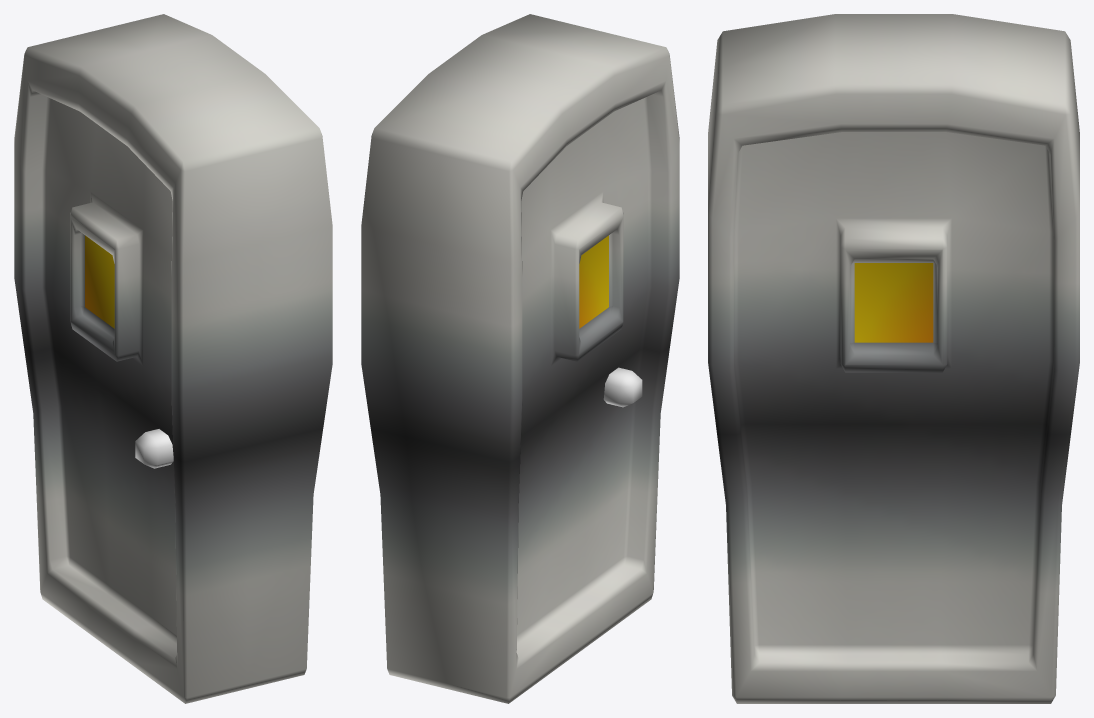
Rendered from Door_Metal.fbx.
3 renders of one model, left to right at view 1: azimuth 30°, elevation 25°; view 2: azimuth 150°, elevation 25°; view 3: azimuth 270°, elevation 25°, orthographic. The views are drawn at different scales.
Parts seen in each view (by area): view 1: Door_Metal; view 2: Door_Metal; view 3: Door_Metal.
Boxes of the visible parts, x1=… form: Door_Metal: x1=14, y1=14, x2=332, y2=703; Door_Metal: x1=361, y1=14, x2=679, y2=703; Door_Metal: x1=708, y1=14, x2=1079, y2=703.
Bounding box in the file's own units: 127 × 425 × 230.
